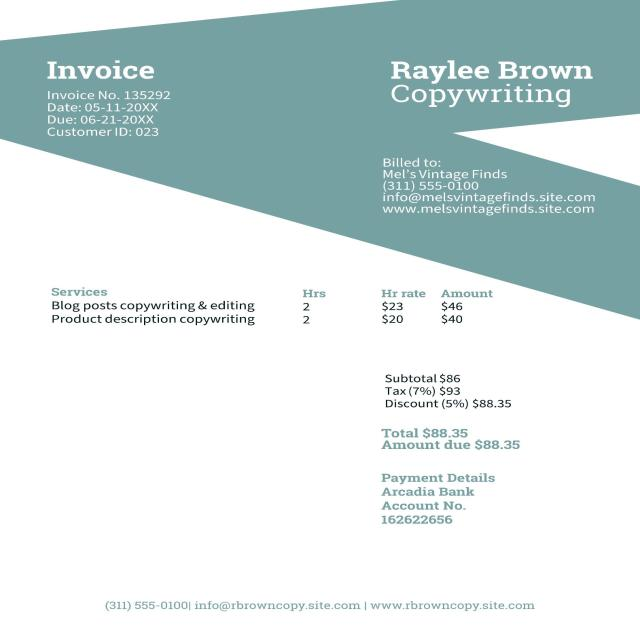paragraph: (372, 151, 610, 229), (95, 586, 541, 626), (368, 48, 612, 115), (362, 468, 511, 534), (349, 367, 532, 417), (38, 88, 174, 144), (355, 425, 541, 458), (39, 49, 168, 84)
table: (31, 266, 525, 340)
